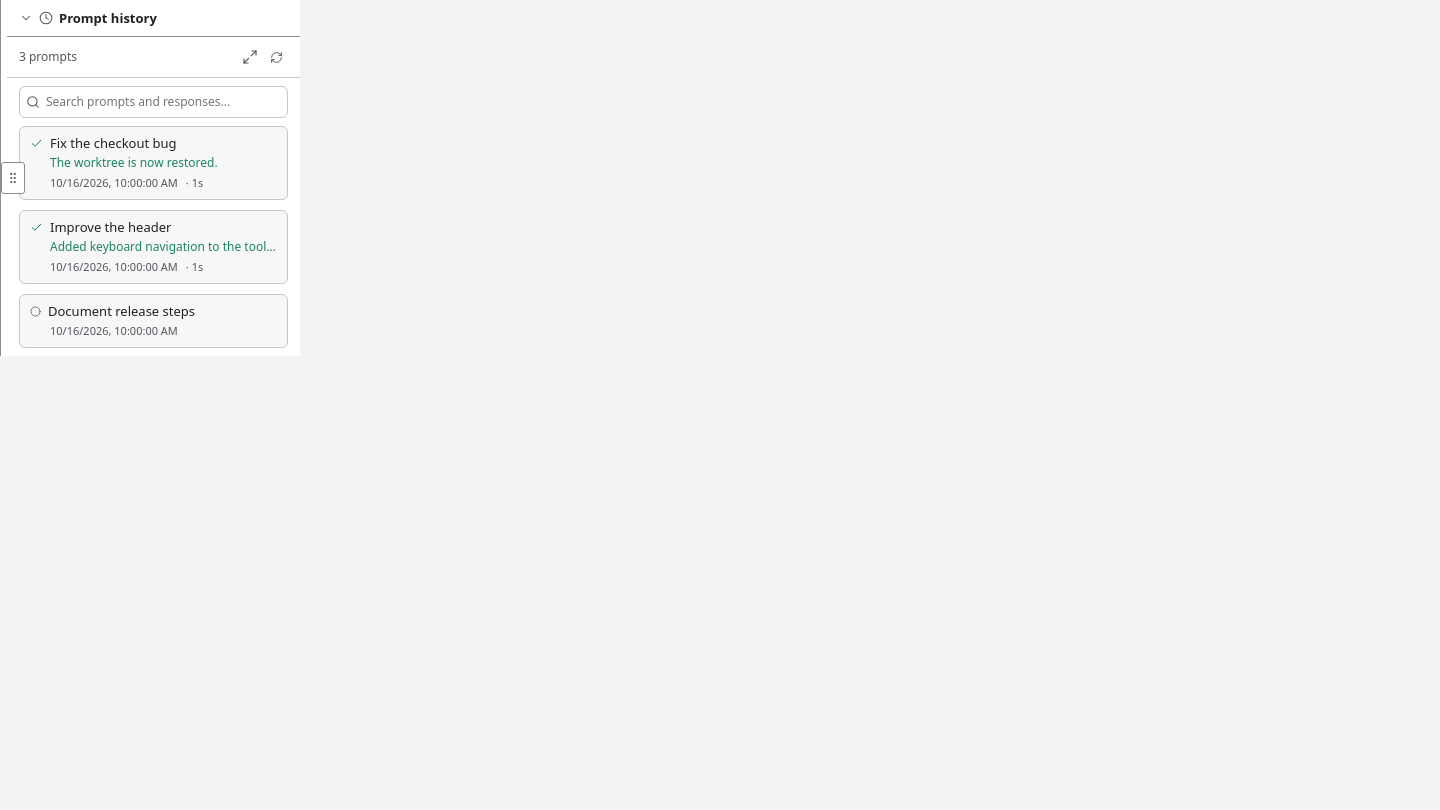
Test: prompt history search › shares the filter with full-screen history and still opens the matching prompt detail
Check: the text "Fix the checkout bug" is shown, box [50,135,177,151]
Type "worktree" into the search field at (164, 102), box [46,91,281,113]
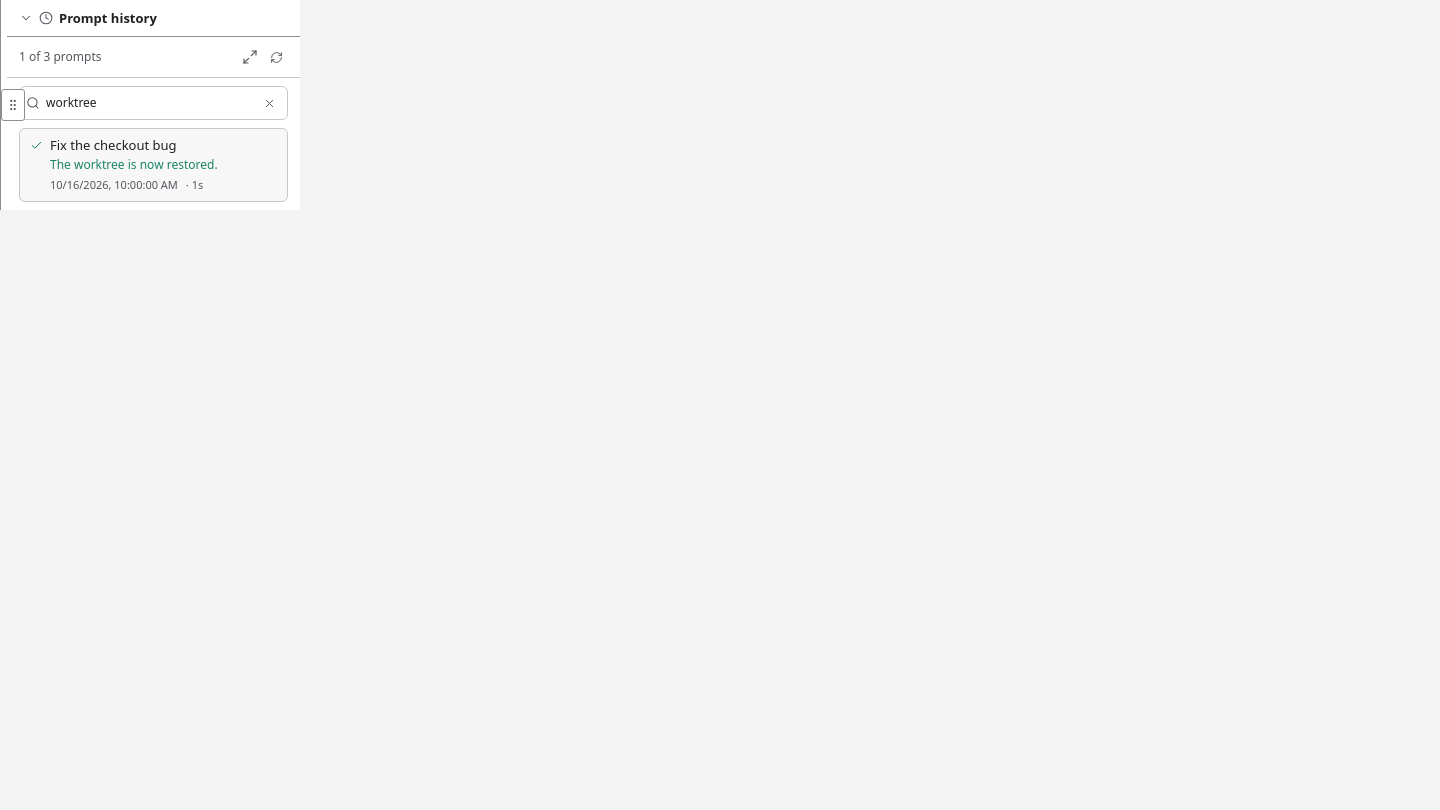
Click the button named "Open prompt history full screen" at (250, 57), box [238,45,262,69]
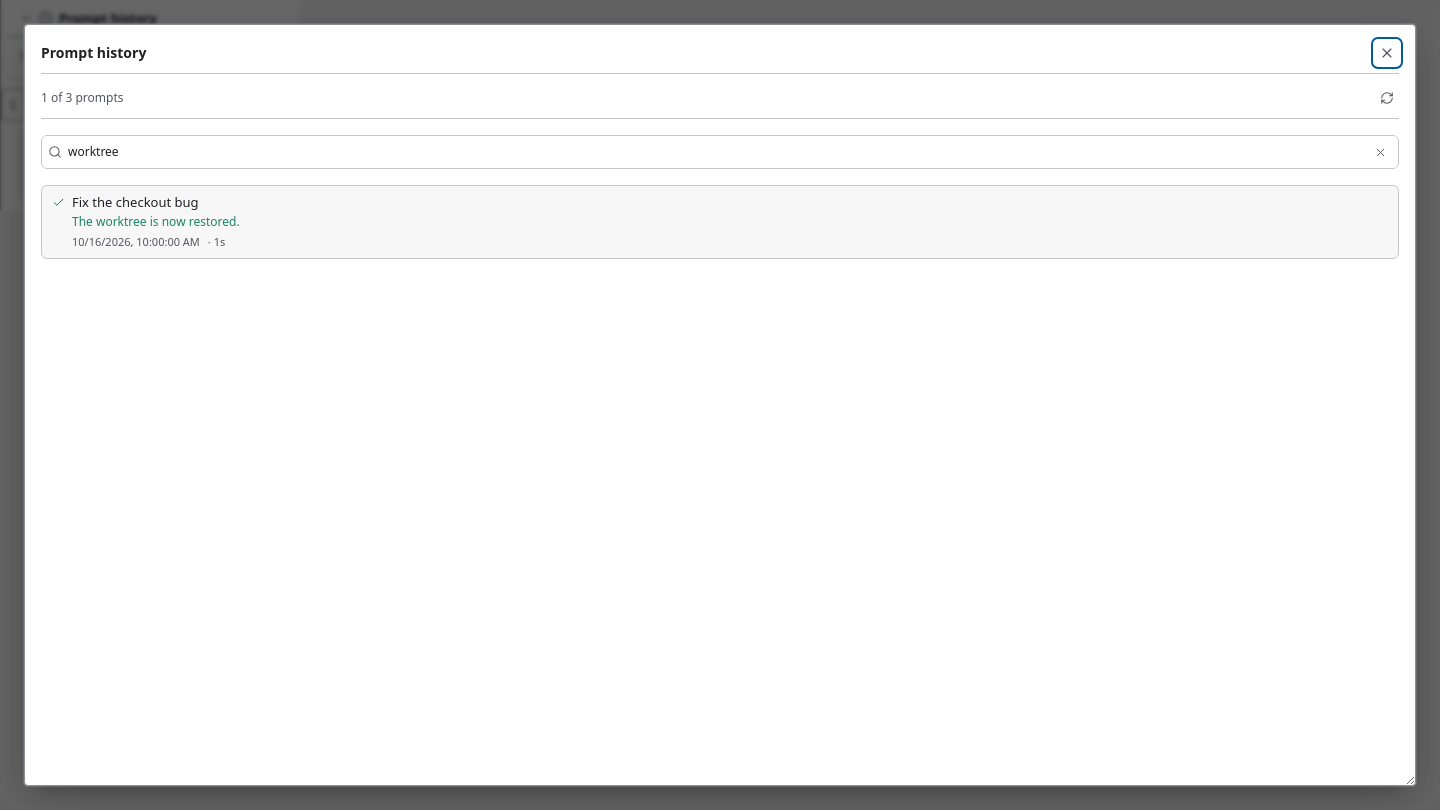
Check: the search field holds "worktree"
Check: the number of buttons titled "Open full prompt and response" is 1, box [41,185,1399,259]
Replace the text in the search field with "release" at (715, 152), box [68,141,1362,163]
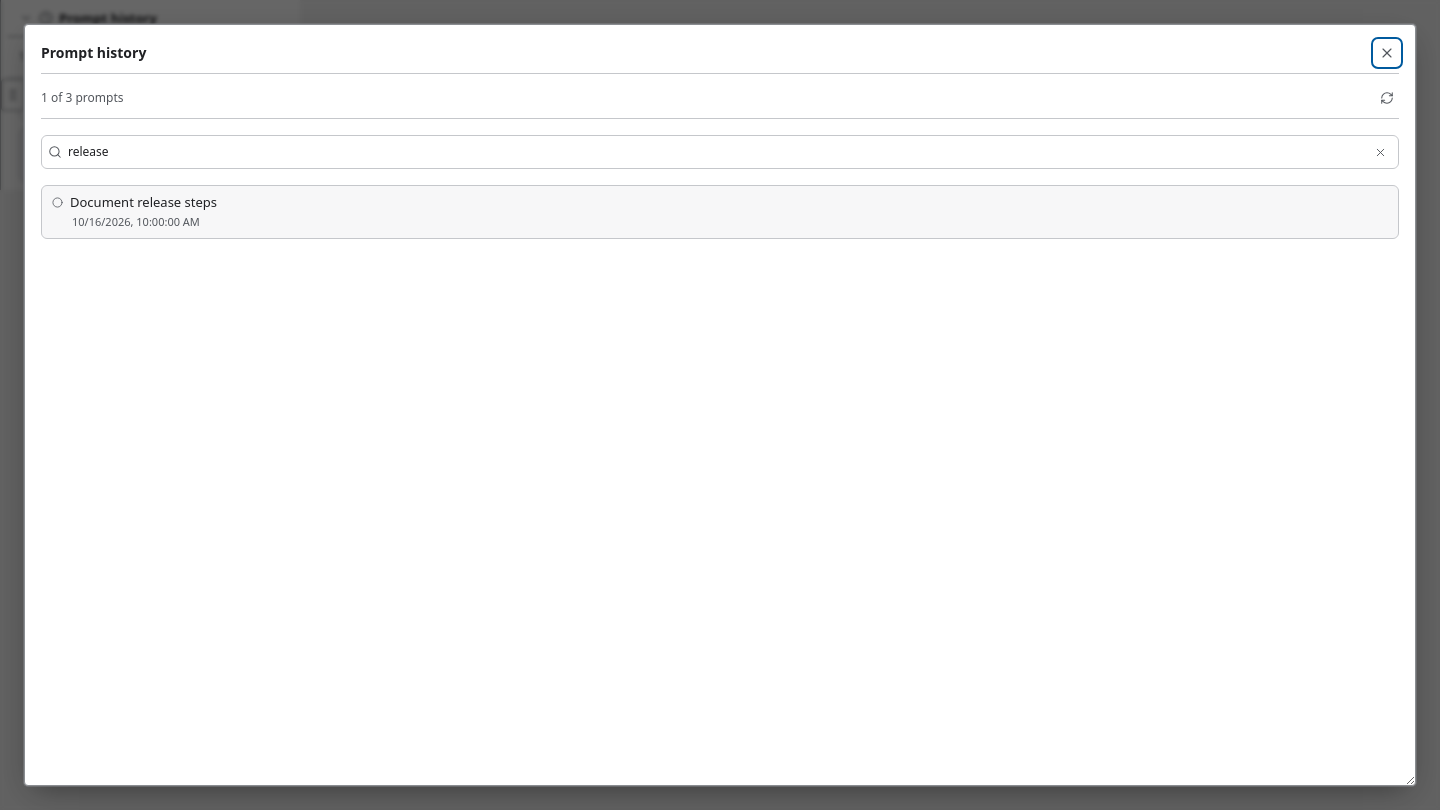
Check: the text "Document release steps" is shown, box [70,194,217,210]
Click the button titled "Open full prompt and response" at (144, 202), box [41,185,1399,239]
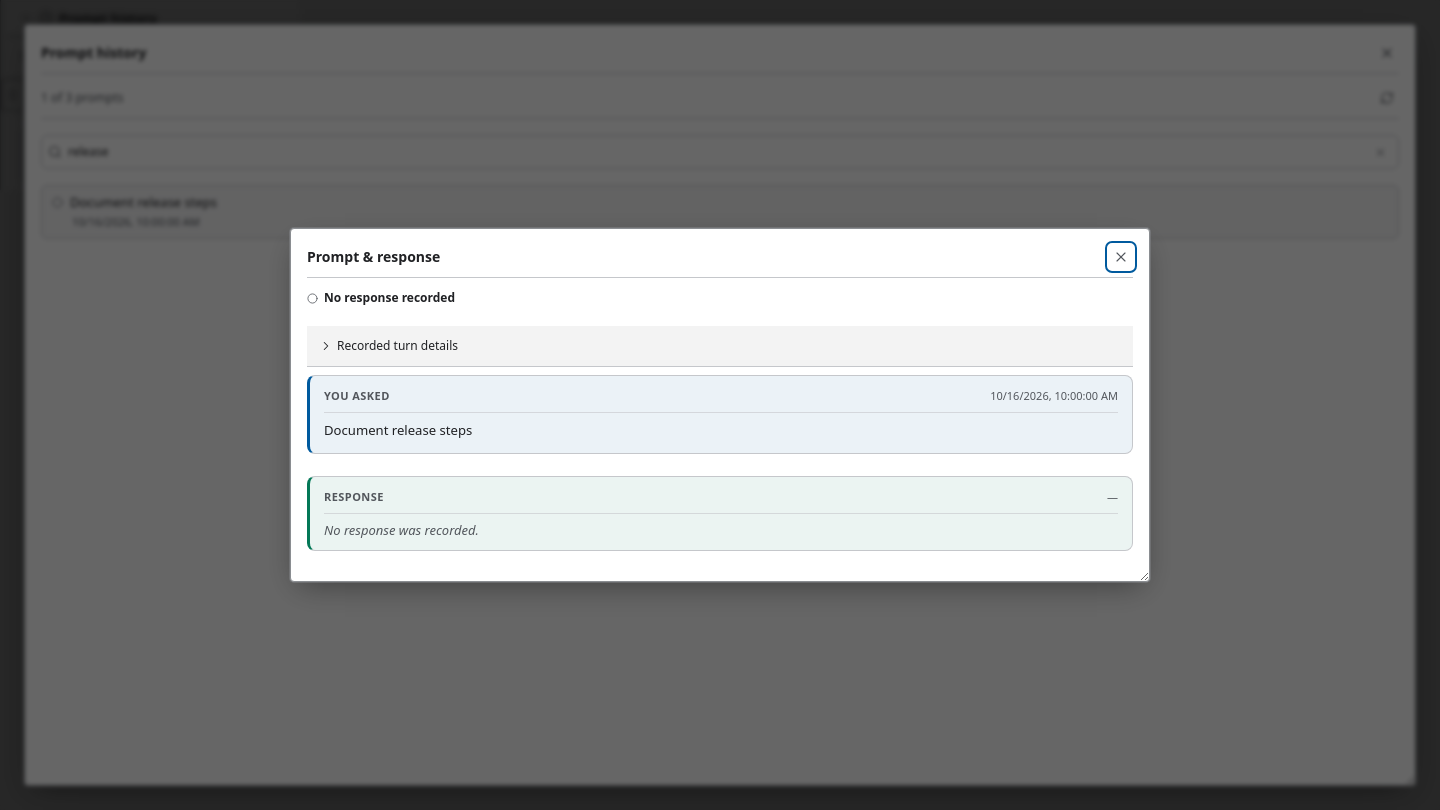
Check: the dialog "Prompt & response" shows "Document release steps", box [324,422,472,440]
